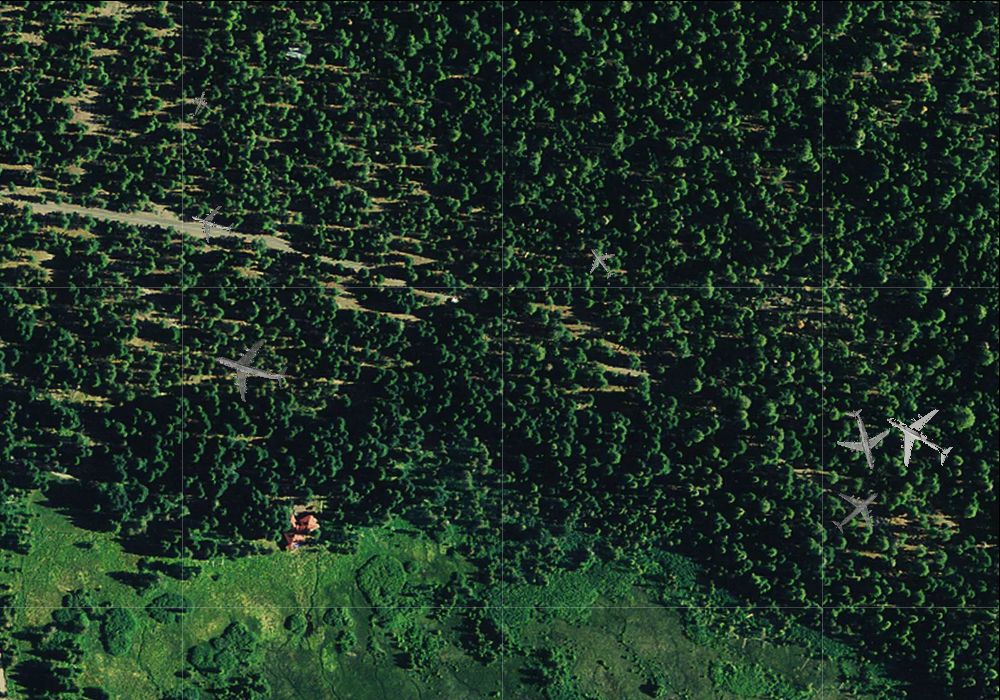plane: (869, 389, 967, 486), (204, 323, 296, 412), (819, 473, 894, 548), (826, 401, 900, 477), (184, 196, 239, 249), (577, 238, 625, 286), (181, 85, 214, 120)
